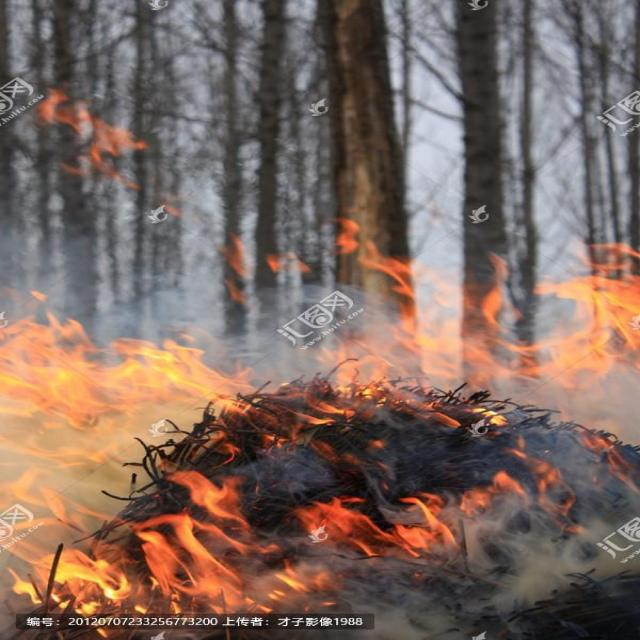fire: (9, 102, 634, 632)
